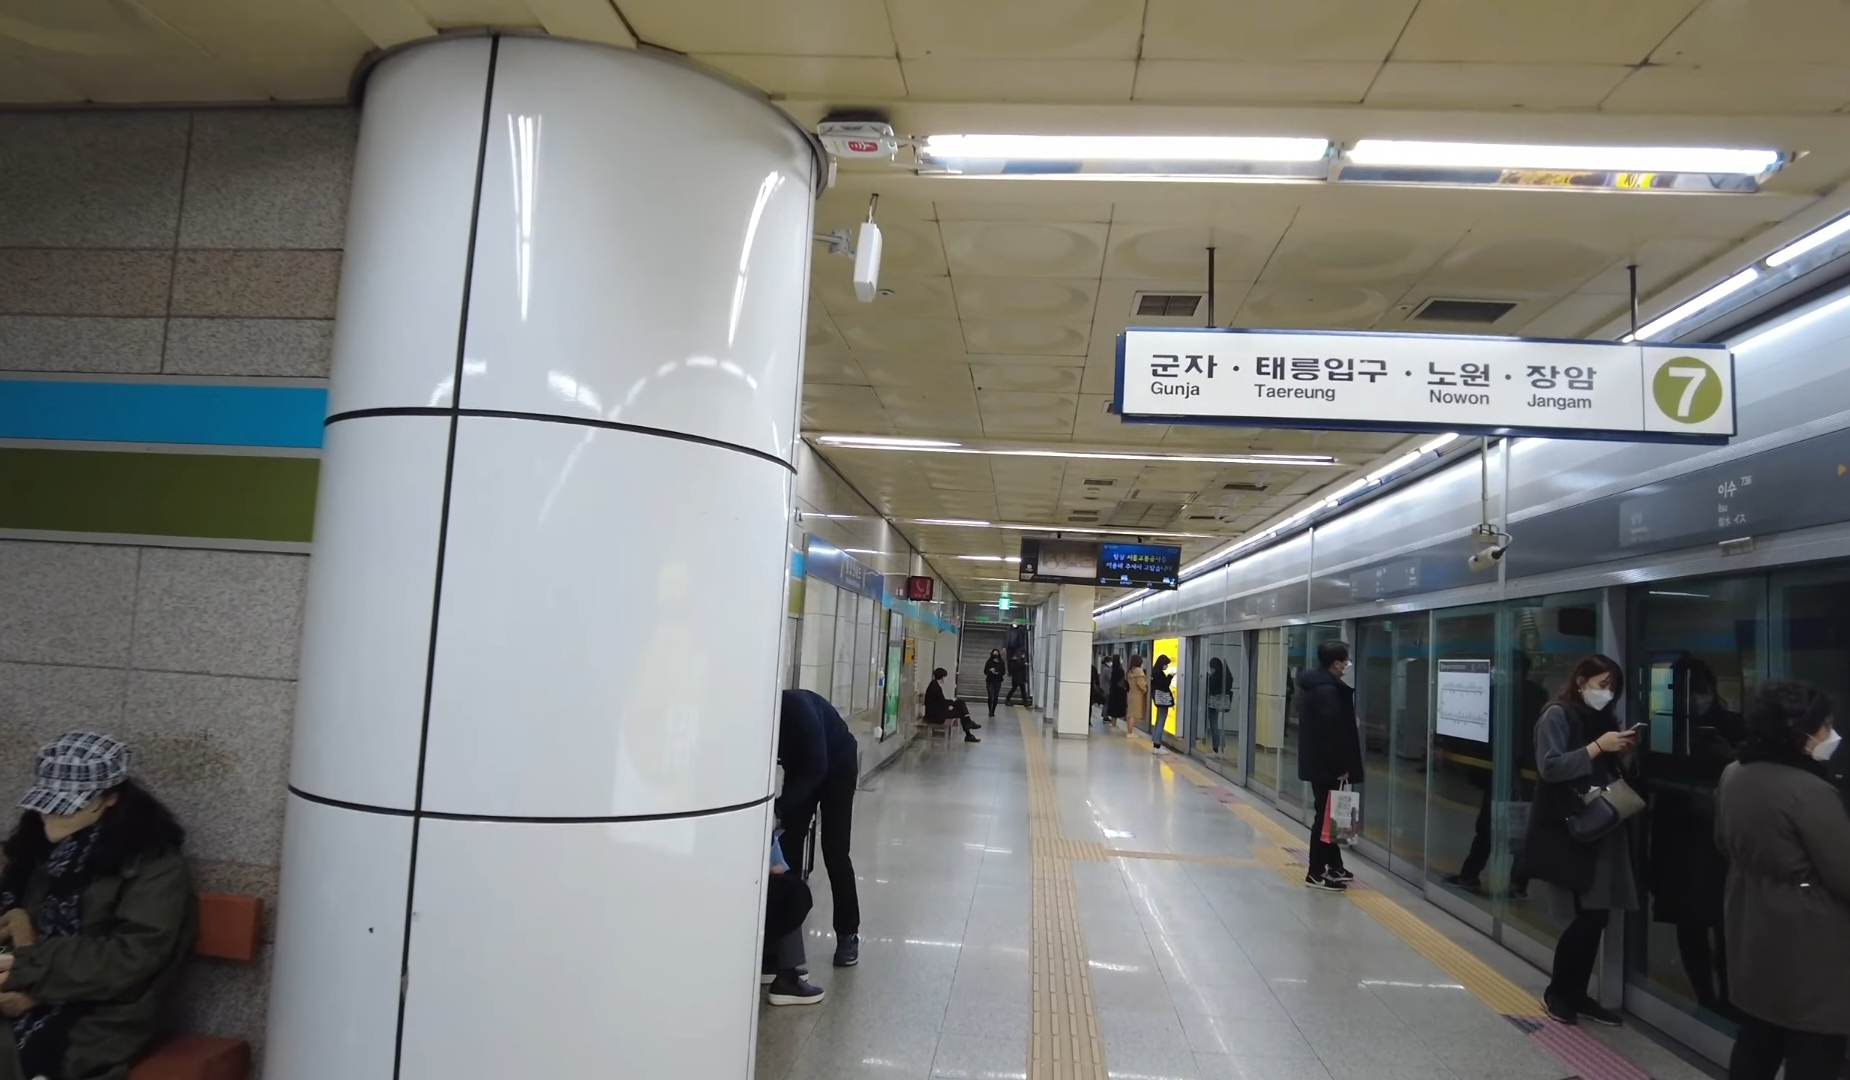signBoard: (1117, 327, 1743, 446)
